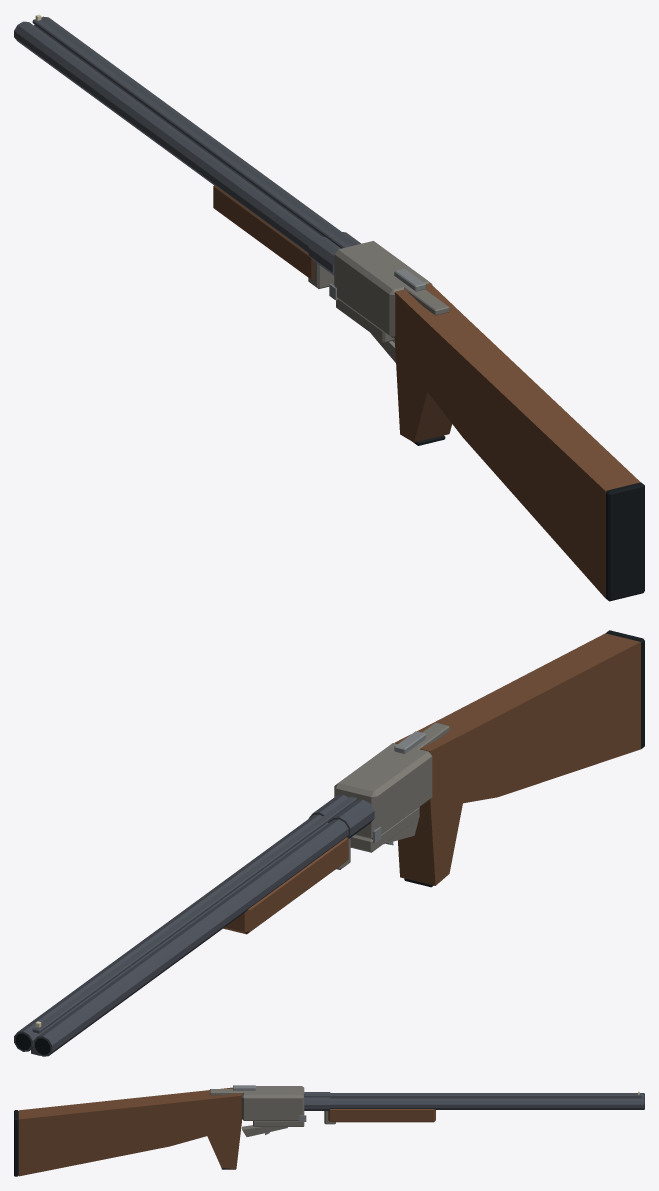
The model's file is shotgun_lowpoly.glb.
The picture shows the model from 3 angles, top to bottom: view 1: azimuth 30°, elevation 25°; view 2: azimuth 150°, elevation 25°; view 3: azimuth 270°, elevation 25°; orthographic projection. The views are drawn at different scales.
Parts seen in each view (by area): view 1: ShotgunMesh; view 2: ShotgunMesh; view 3: ShotgunMesh.
Part boxes in pixels (bbox=[...]): ShotgunMesh: bbox=[14, 14, 644, 601]; ShotgunMesh: bbox=[14, 630, 644, 1056]; ShotgunMesh: bbox=[14, 1085, 644, 1176].
Bounding box in the file's own units: 0.049 × 0.166 × 1.1.
